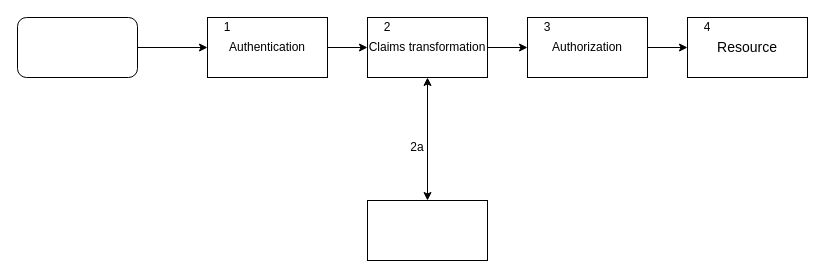
Image size: 825x278. Some labels were removed from this diagram. The shapes that lost their labels are listed below. From the top down, each one's centre as x and y in pixels, then its label:
At (x=77, y=47): "Request".
At (x=427, y=230): "PDP".
